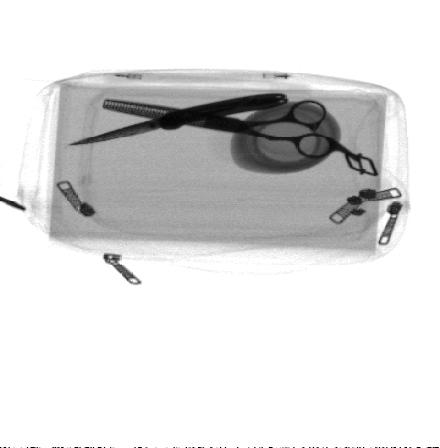Knife: (64, 92, 290, 145)
Scissors: (102, 99, 364, 162)
